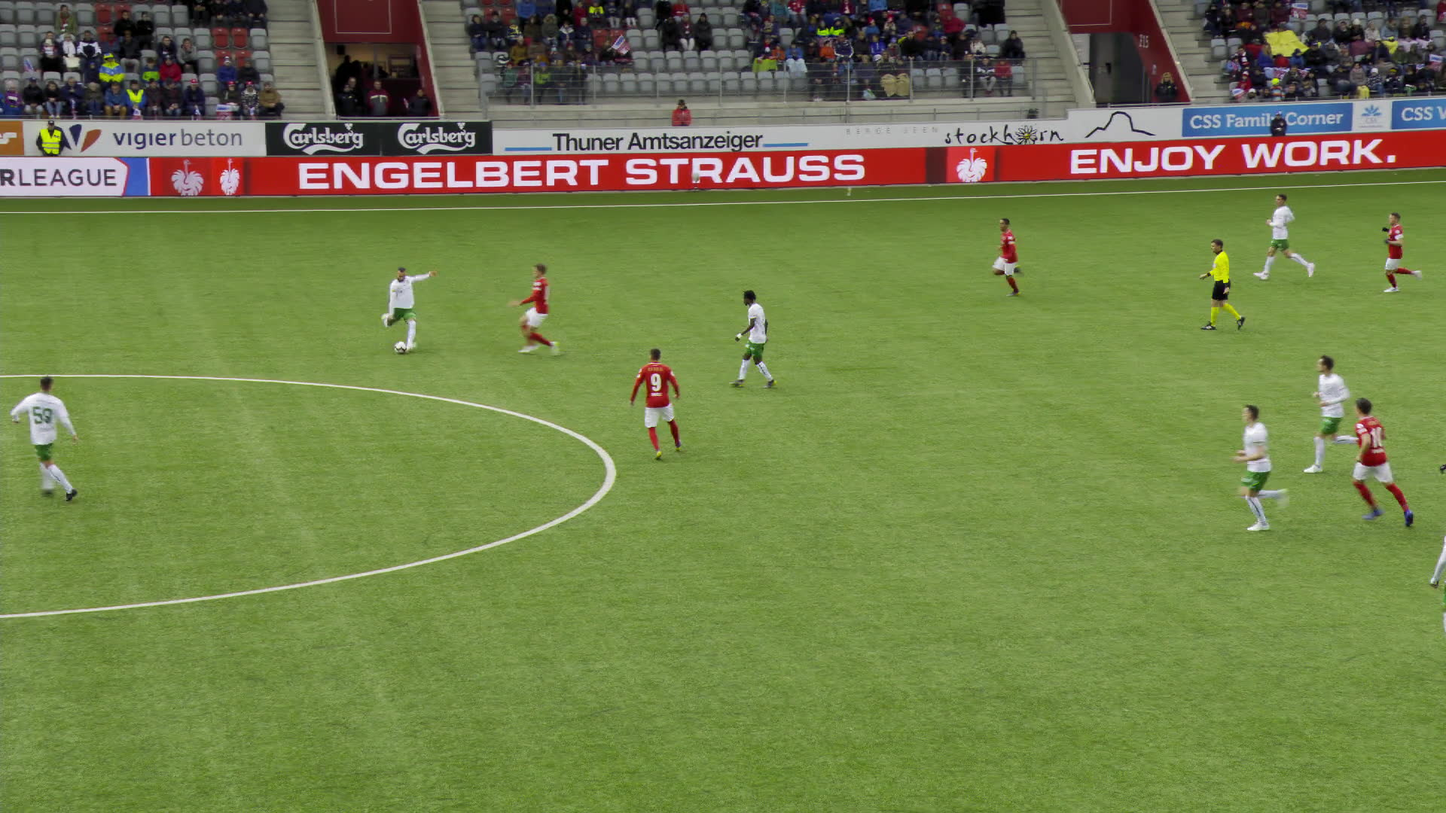ball: (392, 336, 410, 352)
player: (1222, 400, 1299, 531), (4, 373, 80, 503), (1351, 397, 1414, 529), (1304, 352, 1362, 474), (625, 346, 685, 462), (374, 260, 435, 352), (505, 260, 563, 356), (1258, 193, 1314, 284), (725, 287, 769, 391), (1376, 208, 1426, 296), (987, 216, 1036, 298), (1429, 519, 1445, 636)
referee: (1190, 237, 1245, 332)
